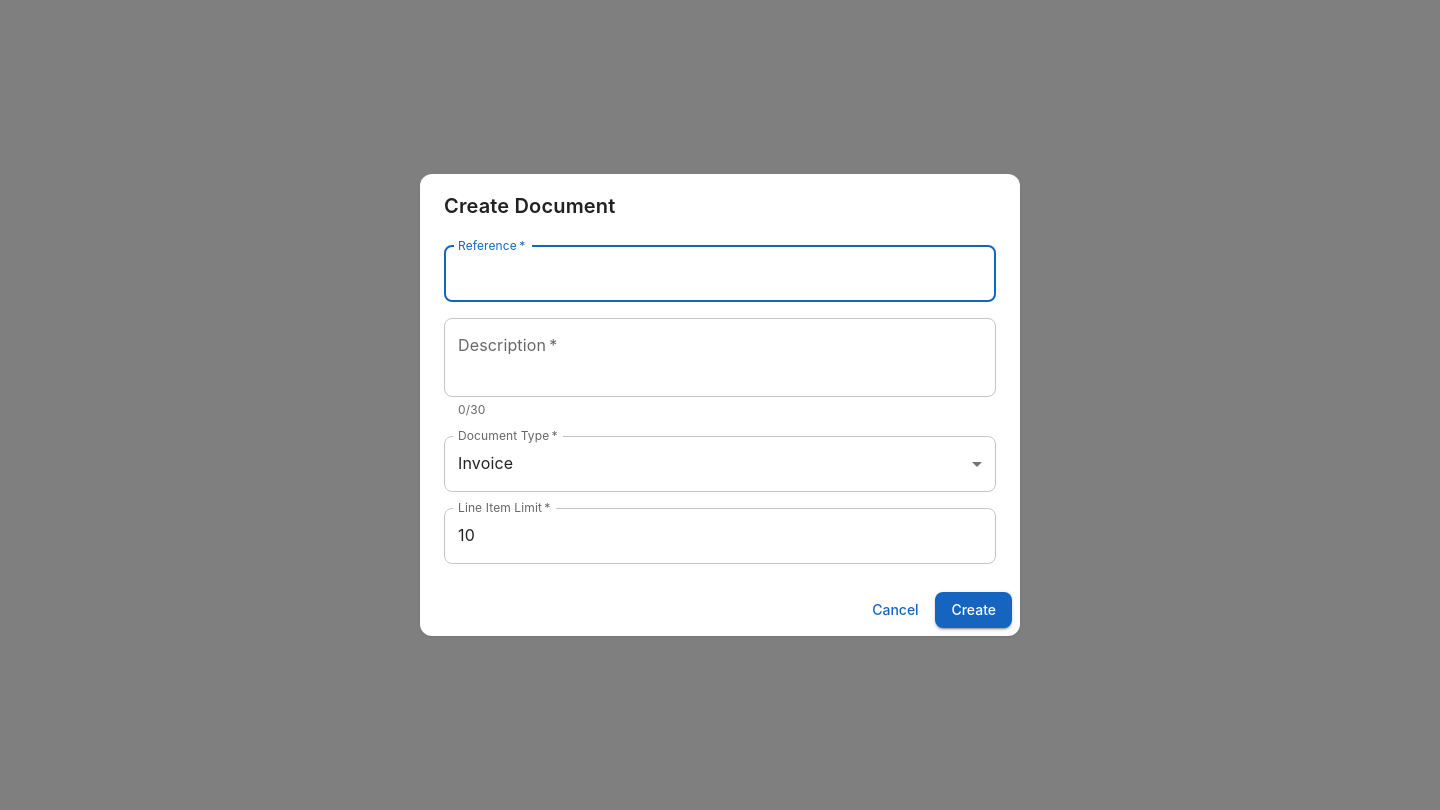
CreateDocumentDialog › updates character counter when typing
Type "Hello" into the text box labelled "Description *" at (720, 357), box x1=458 y1=334 x2=982 y2=380
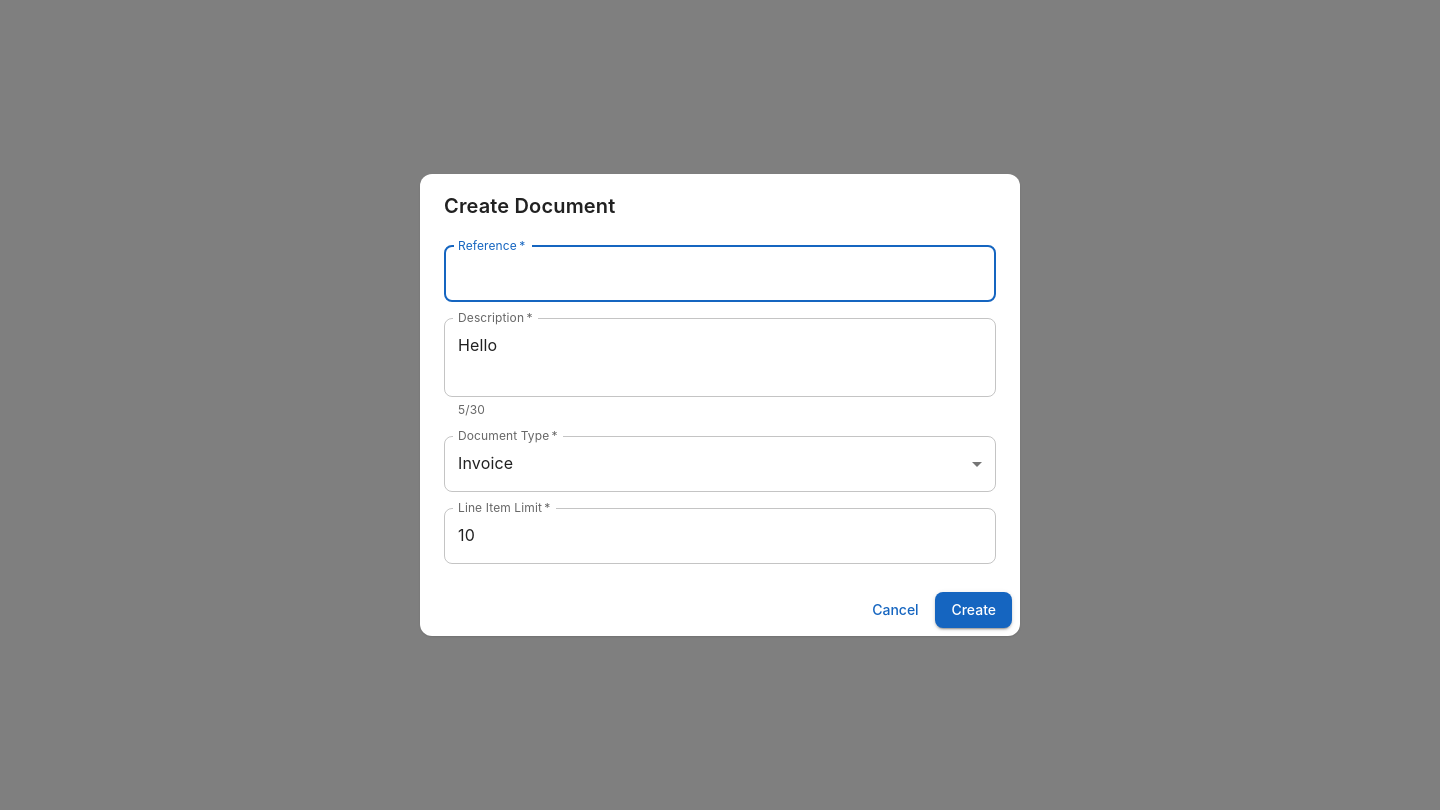
Now the text "5/30" is shown, box x1=458 y1=402 x2=485 y2=417
